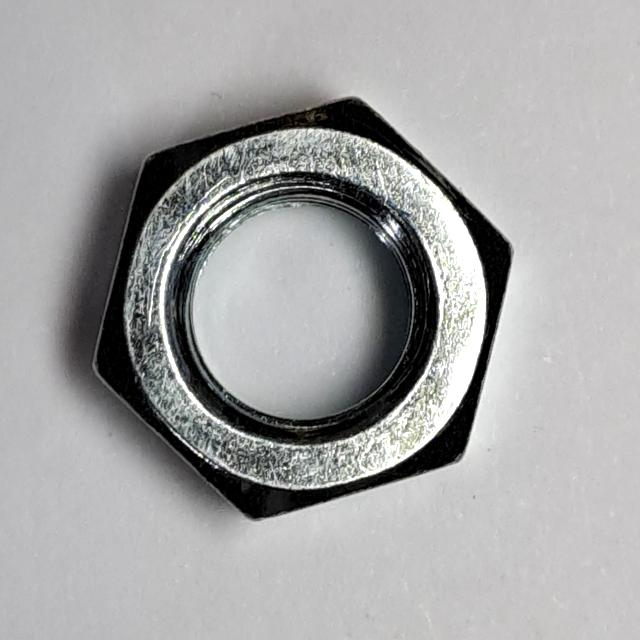Excellent: (76, 87, 533, 531)
